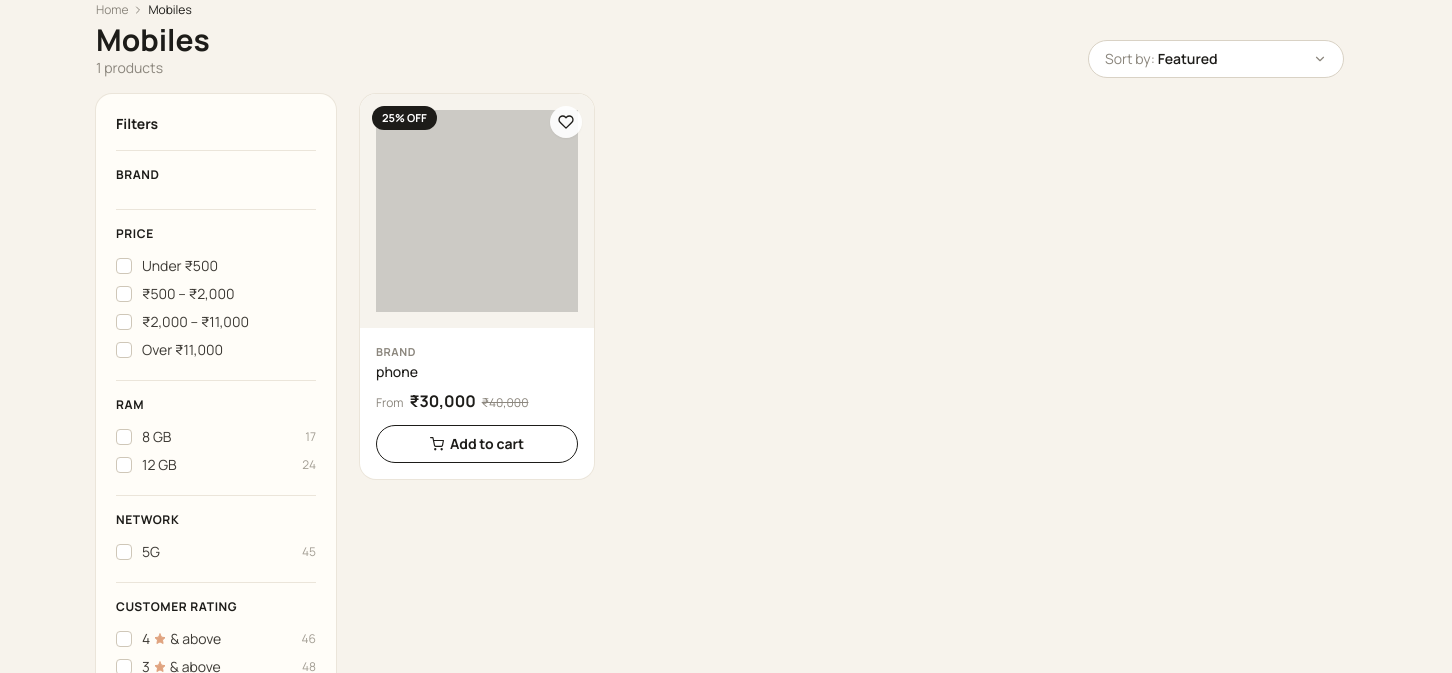
Test: ProductList tiles › shows the category's filters and keeps choices in the URL
The width and height of the screenshot is (1452, 673).
Expected: the heading "Network" is shown, [116,510,179,528]
Click the text "12 GB". click: (159, 464)
box: [142,454,177,474]
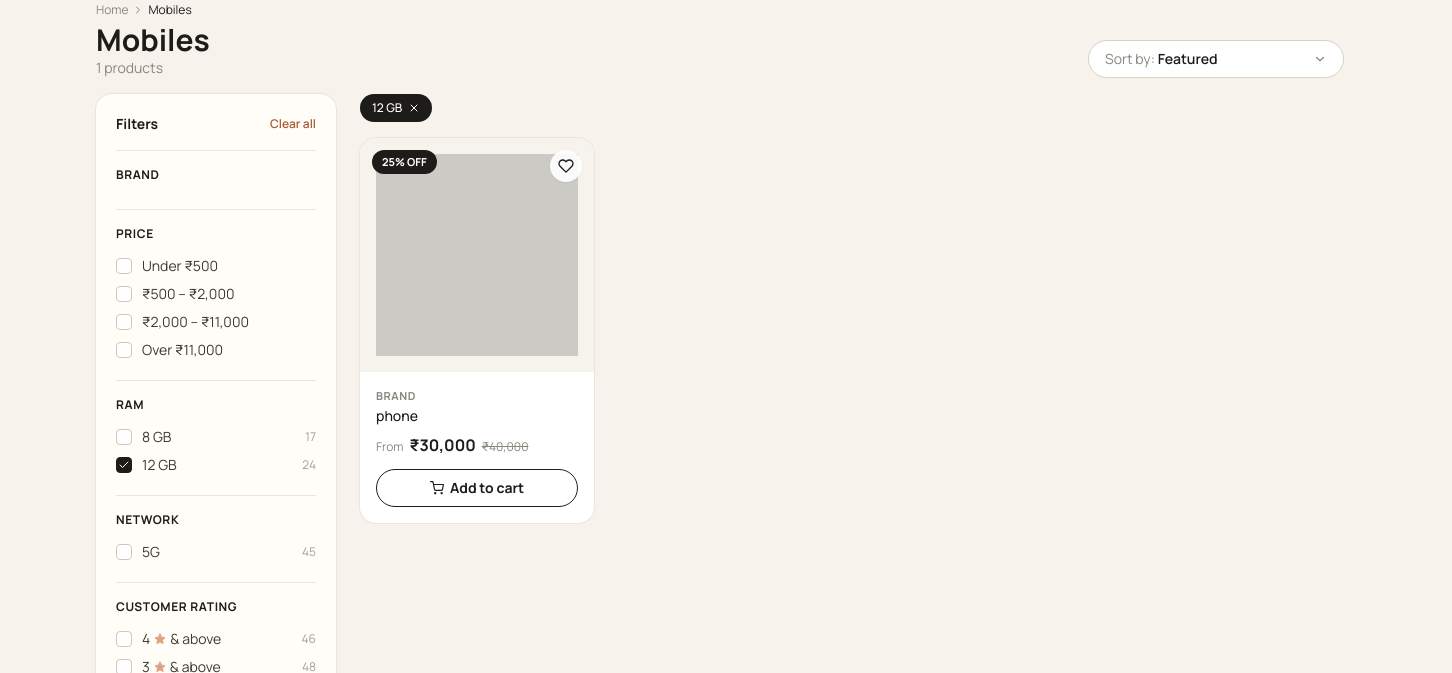
Click the text "8 GB". click: (157, 436)
box: [142,426,171,446]
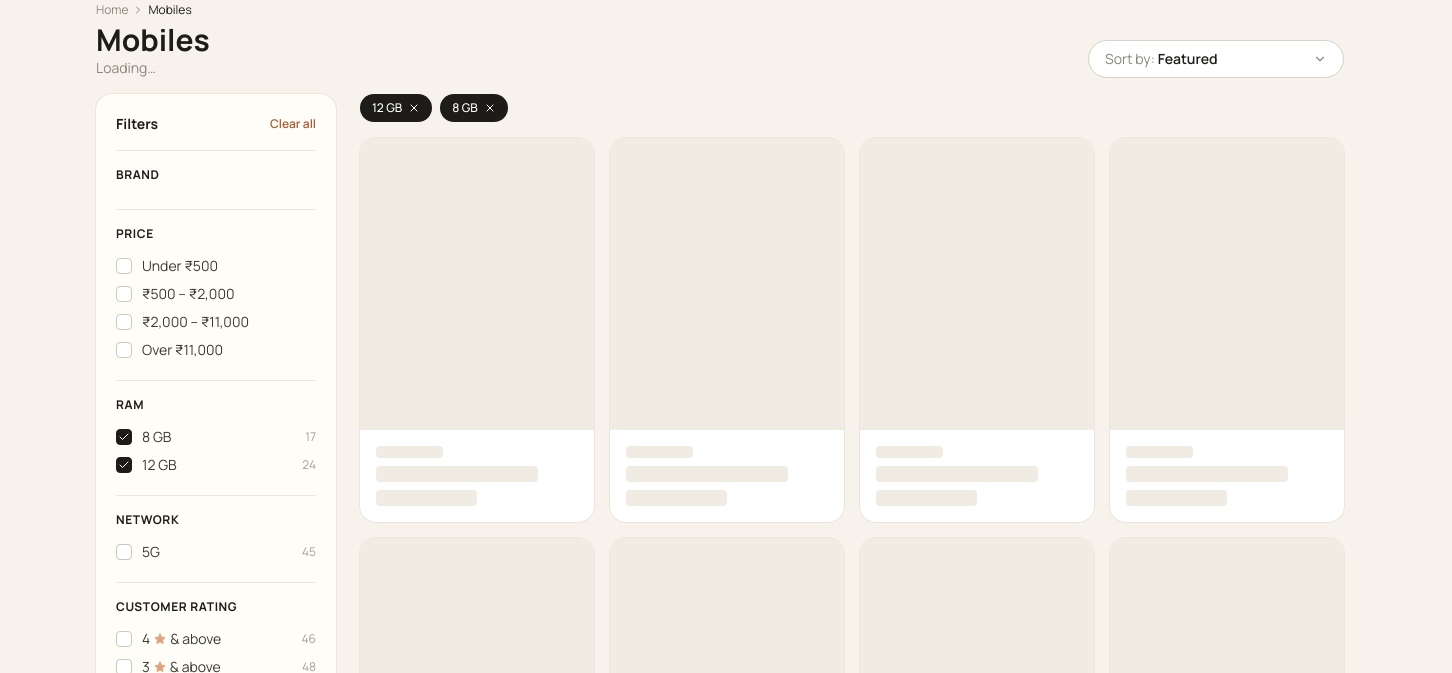
Click the text "4 & above". click: (182, 638)
box: [142,628,221,648]
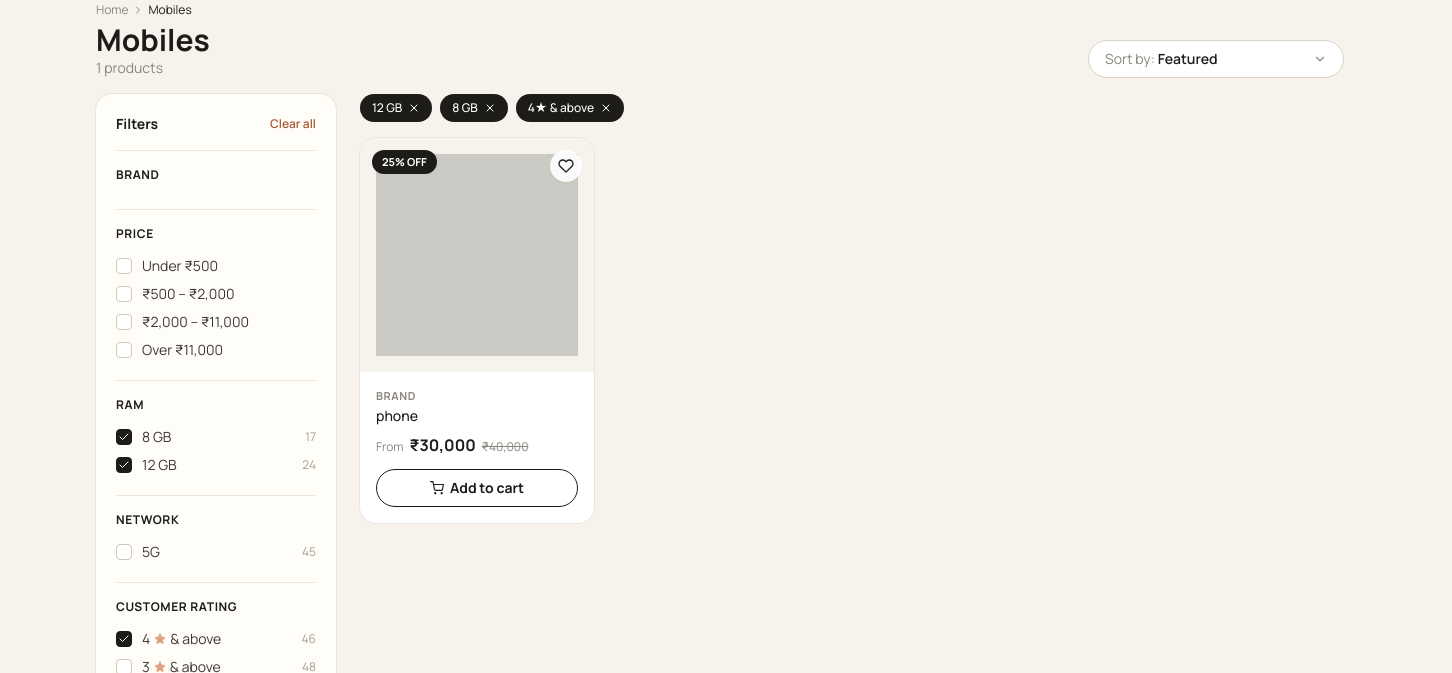
Result: the button "12 GB" is shown at [360,94,432,122]
Result: the button "4★ & above" is shown at [516,94,624,122]
Click the button "Clear all". click: (293, 124)
box: [270,116,316,132]
(page scrolled)
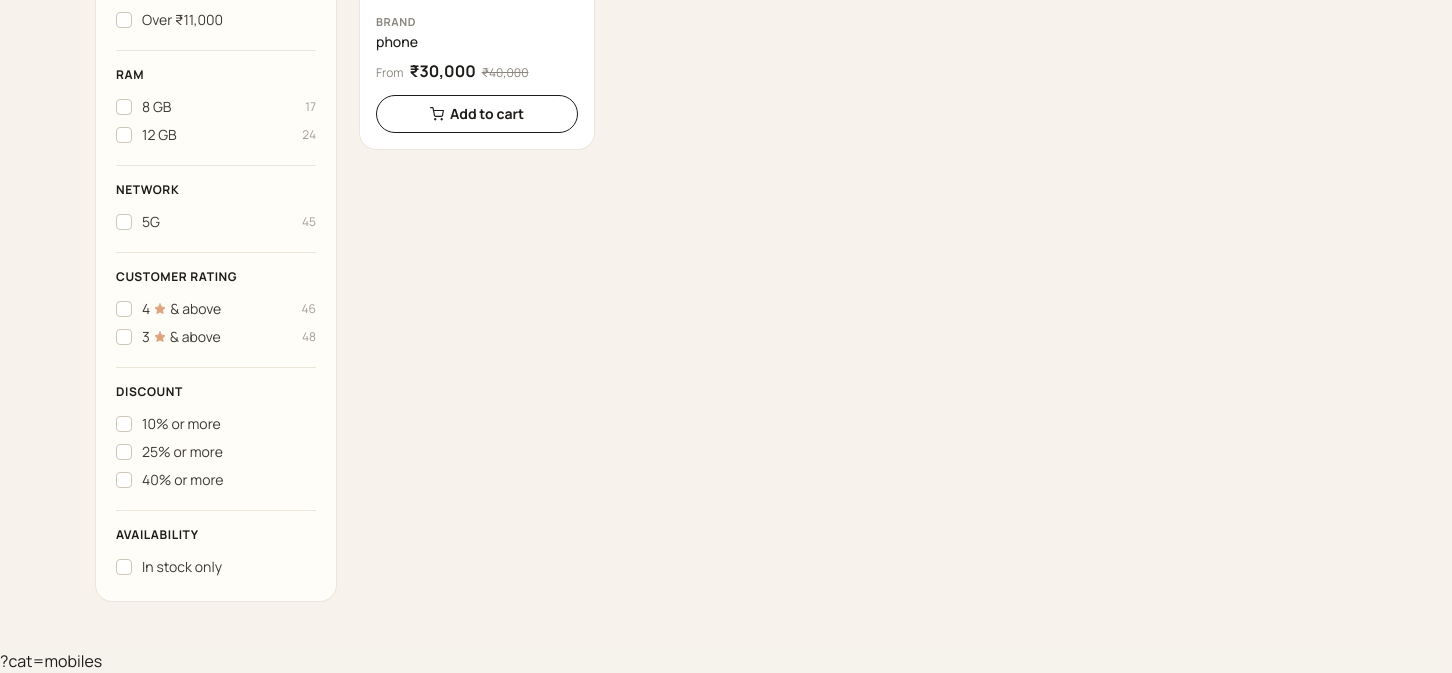
Result: the text with test id "where" reads "?cat=mobiles" at [0,650,102,672]
